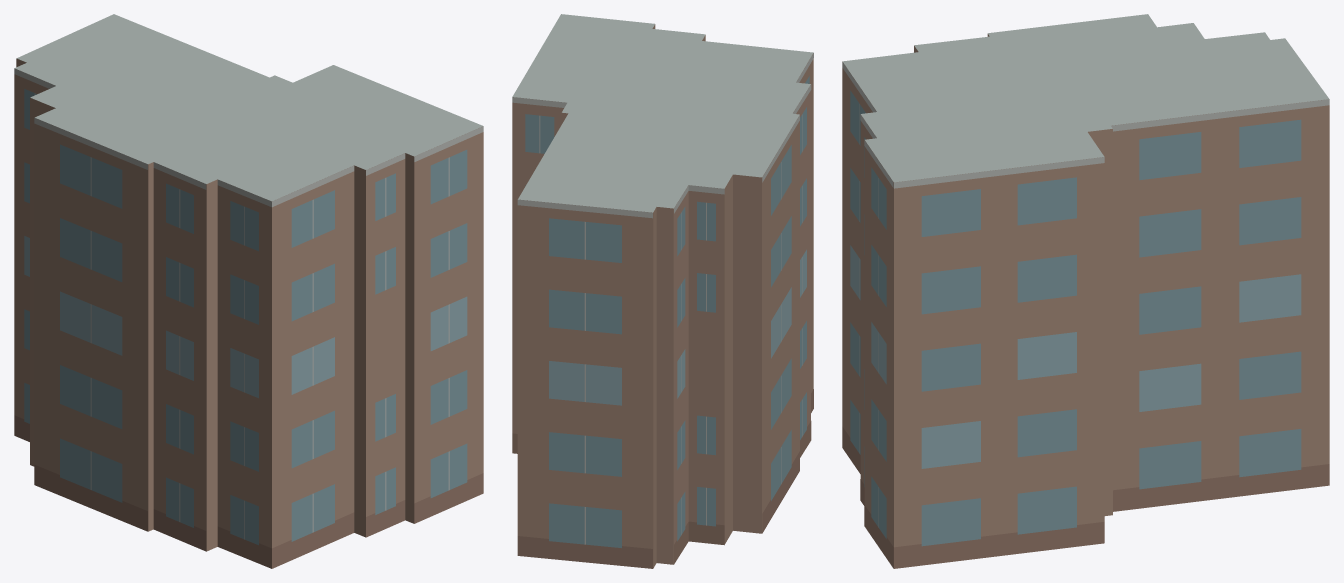
Rendered from survey-upis-33032182.glb.
The picture shows the model from 3 angles, left to right: view 1: azimuth 30°, elevation 25°; view 2: azimuth 150°, elevation 25°; view 3: azimuth 270°, elevation 25°; orthographic projection. The views are drawn at different scales.
Visible parts, largest first — view 1: survey-upis-33032182.tmp; view 2: survey-upis-33032182.tmp; view 3: survey-upis-33032182.tmp.
Part boxes in pixels (left/top/right/bottom): survey-upis-33032182.tmp: left=14, top=14, right=483, bottom=568; survey-upis-33032182.tmp: left=512, top=14, right=813, bottom=568; survey-upis-33032182.tmp: left=842, top=14, right=1329, bottom=568.
Bounding box in the file's own units: 14.27 × 15.25 × 17.43.
